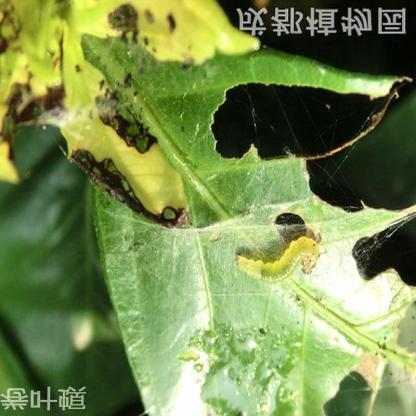leaf-folder: (226, 228, 328, 290)
